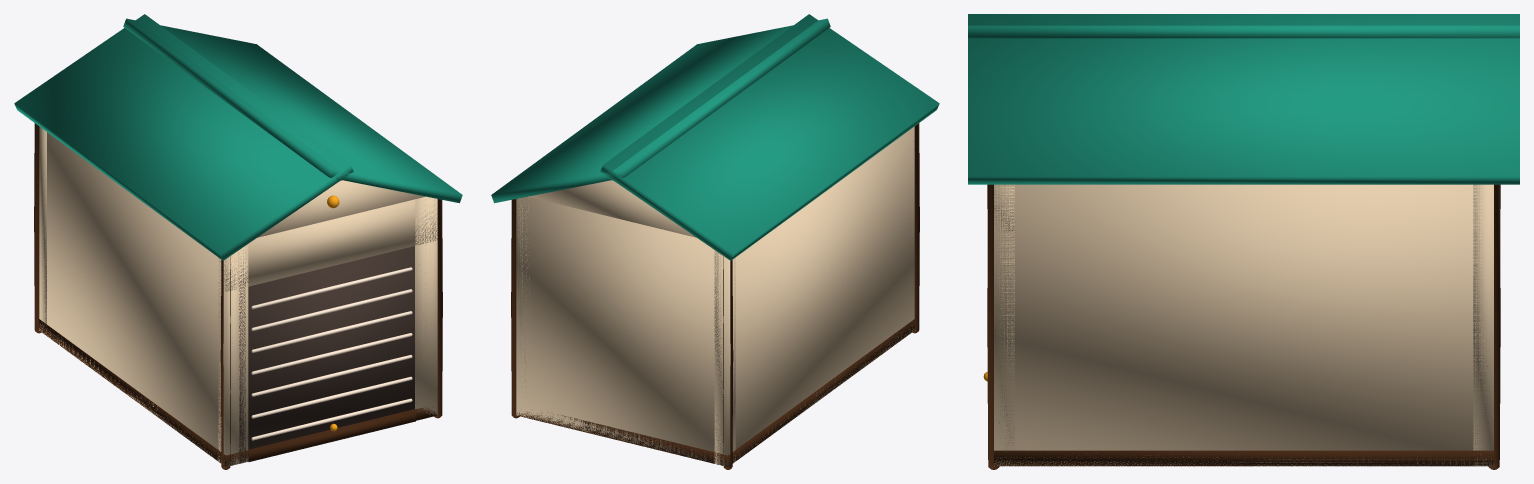
The model's file is garage.glb.
3 renders of one model, left to right at view 1: azimuth 30°, elevation 25°; view 2: azimuth 150°, elevation 25°; view 3: azimuth 270°, elevation 25°, orthographic. The views are drawn at different scales.
Visible parts, largest first — view 1: GarageKorpus, GarageRolltor; view 2: GarageKorpus; view 3: GarageKorpus.
Part boxes in pixels (x1=…): GarageKorpus: x1=14, y1=14, x2=462, y2=469; GarageRolltor: x1=248, y1=246, x2=415, y2=461; GarageKorpus: x1=491, y1=14, x2=939, y2=469; GarageKorpus: x1=968, y1=14, x2=1519, y2=469.
Size of the model in its own units: 2.18 by 2.43 by 3.2.
Materials: 1 (1 with a texture image).
